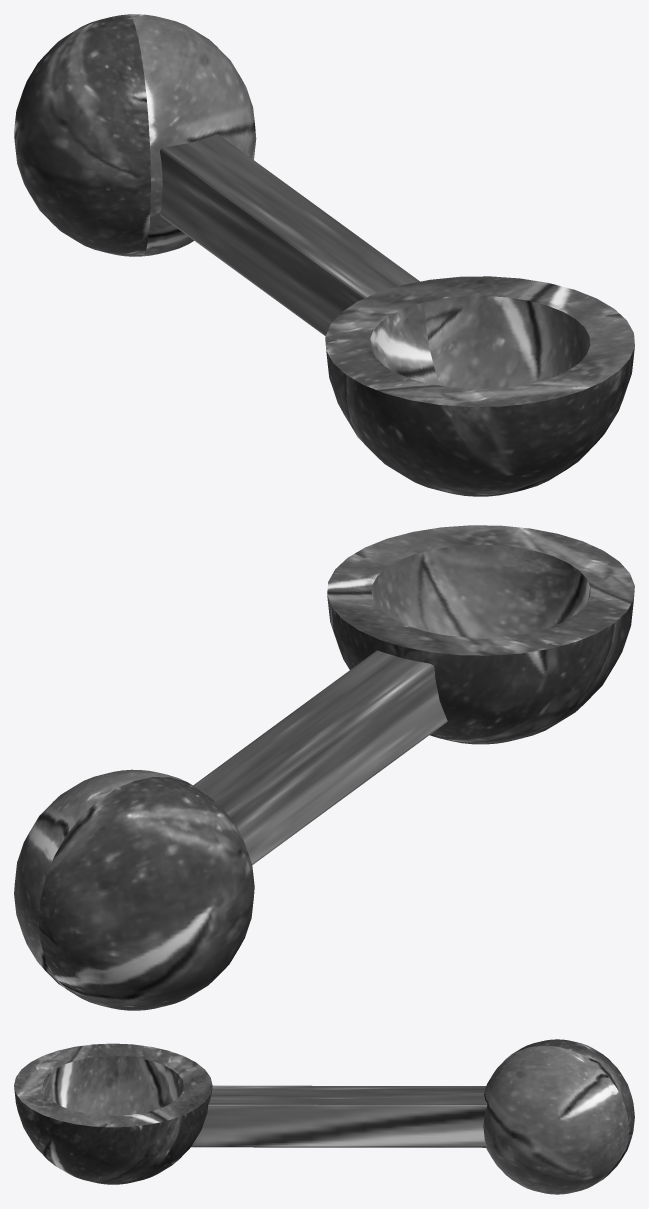
File: cuchara.obj
3 renders of one model, top to bottom at view 1: azimuth 30°, elevation 25°; view 2: azimuth 150°, elevation 25°; view 3: azimuth 270°, elevation 25°, orthographic. The views are drawn at different scales.
Visible parts, largest first — view 1: cuchara_metal; view 2: cuchara_metal; view 3: cuchara_metal.
Boxes of the visible parts, x1,y1,x2,y2 form: cuchara_metal: [14, 14, 634, 496]; cuchara_metal: [14, 525, 634, 1010]; cuchara_metal: [14, 1039, 634, 1194].
Bounding box in the file's own units: 0.3696 × 0.289 × 1.16.
1 material, 1 textured.
